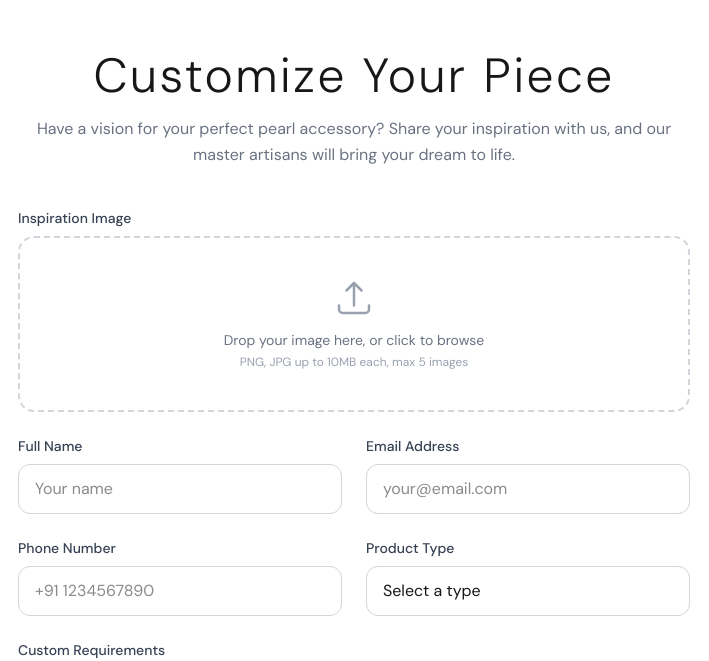
Custom Order Page › Form submission › sends signed-out requests by email without opening WhatsApp
Type "Jane Doe" into the field labelled "Full Name". click: (180, 489)
box: [18,464,342,514]
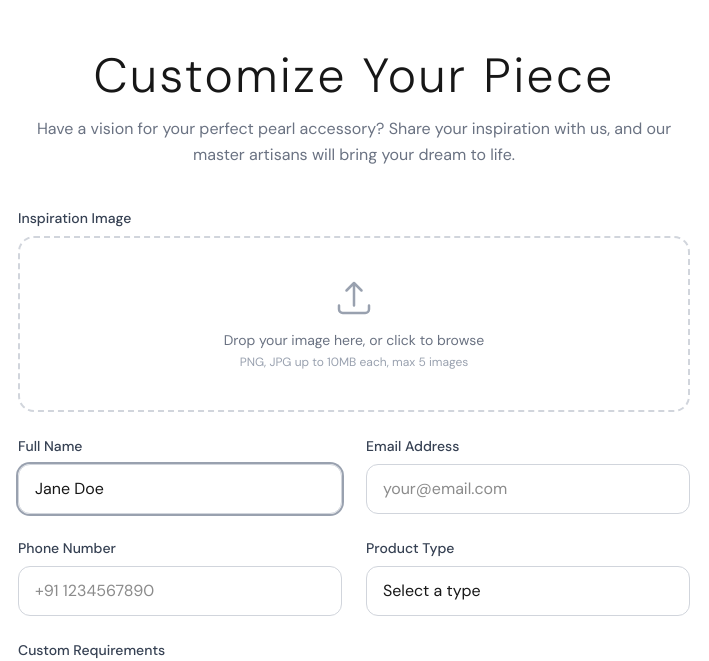
Type "jane@example.com" into the field labelled "Email Address". click: (528, 489)
box: [366,464,690,514]
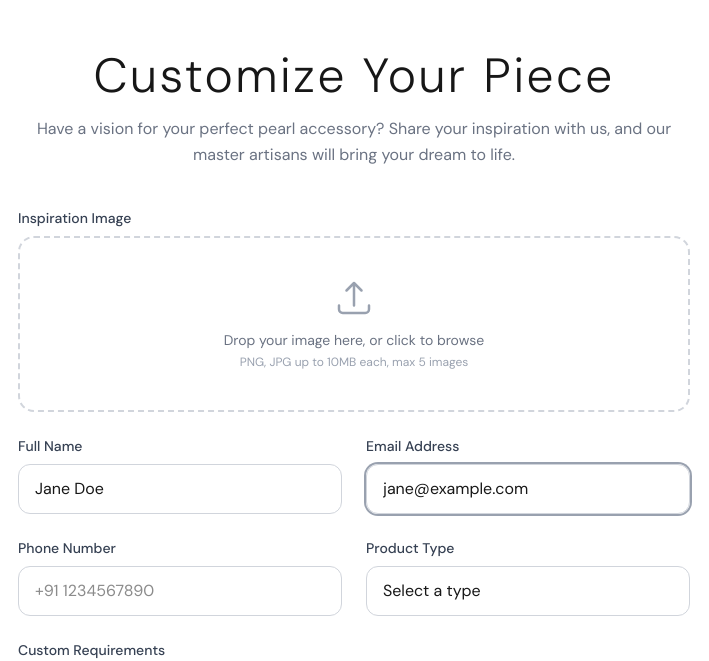
Type "+919876543210" into the field labelled "Phone Number". click: (180, 591)
box: [18,566,342,616]
(page scrolled)
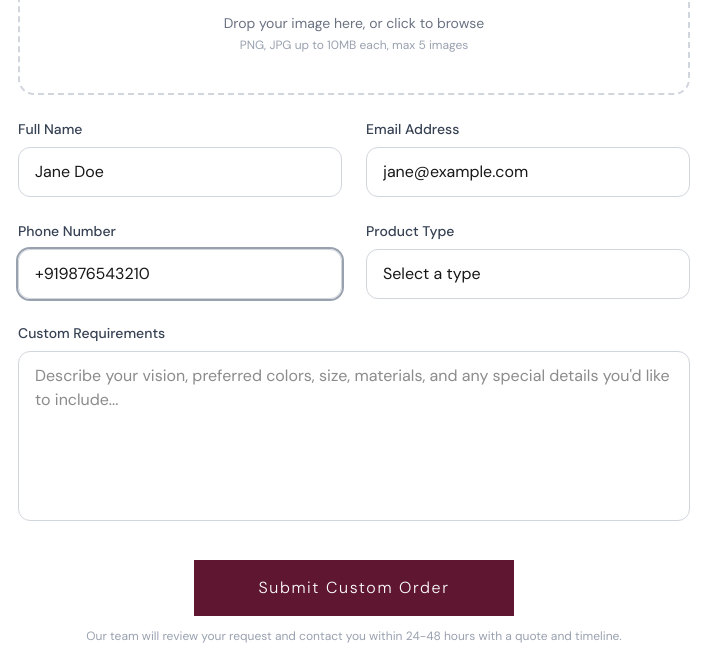
Click the button "Submit Custom Order". click: (354, 588)
box: [194,560,514,616]
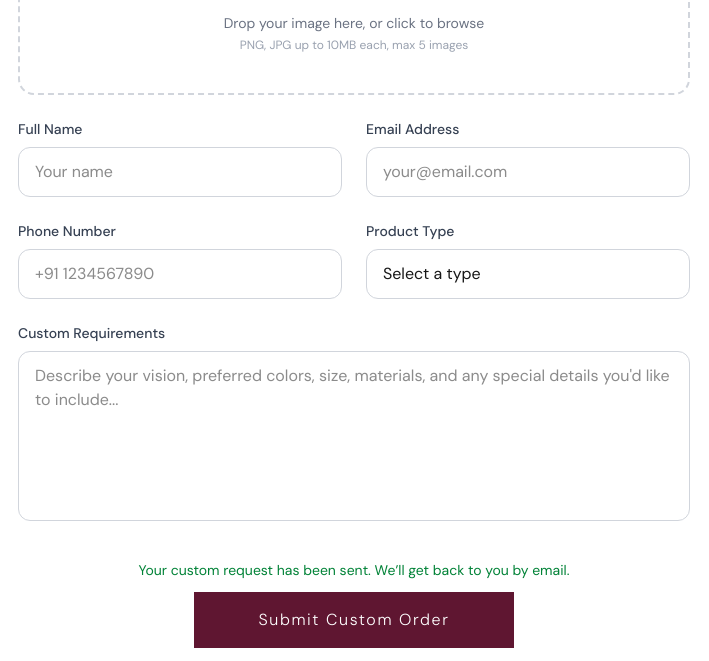
Now the message shows "Your custom request has been sent.", box [138,561,569,579]
